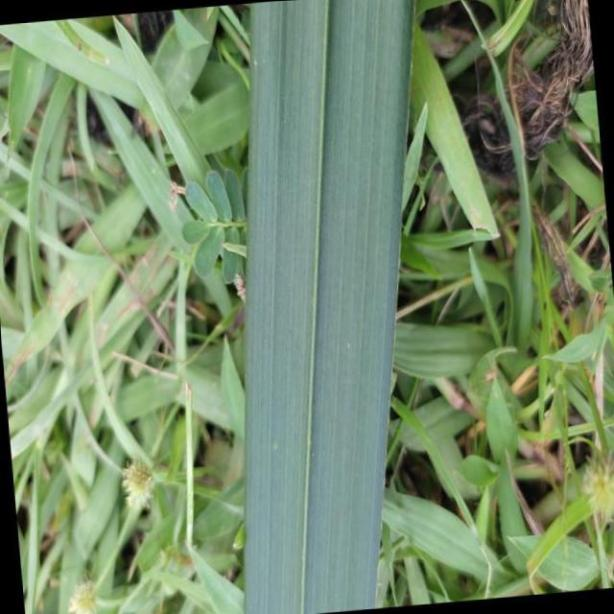Healthy: (239, 1, 417, 614)
